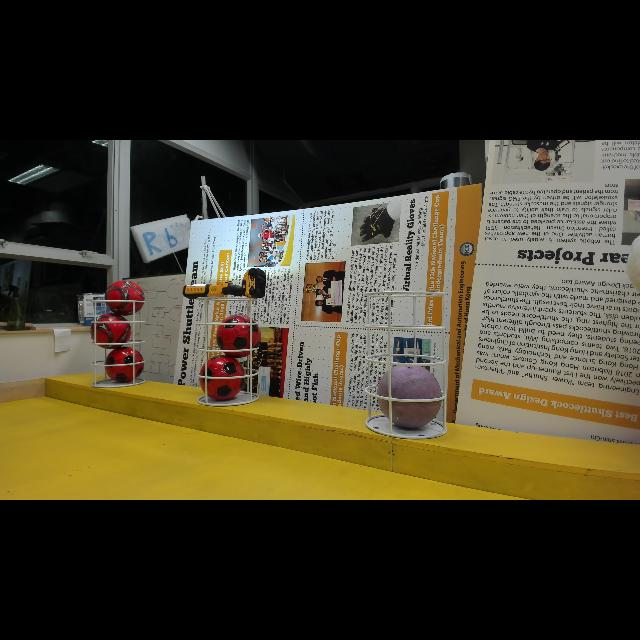P: (374, 361, 446, 432)
R: (198, 354, 246, 402), (216, 312, 262, 358), (102, 344, 146, 386), (90, 312, 132, 351), (104, 280, 146, 316)
S: (361, 289, 449, 441), (194, 292, 262, 408), (89, 296, 150, 390)
